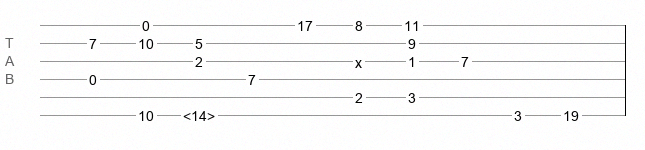0: (89, 72, 97, 82), (142, 18, 150, 28)
1: (408, 54, 416, 64)
10: (138, 108, 154, 118), (138, 36, 154, 46)
11: (404, 18, 420, 28)
17: (297, 18, 313, 28)
19: (563, 108, 579, 118)
2: (195, 54, 203, 64), (355, 90, 363, 100)
3: (408, 90, 416, 100), (514, 108, 522, 118)
5: (195, 36, 203, 46)
7: (89, 36, 97, 46), (248, 72, 256, 82), (461, 54, 469, 64)
8: (355, 18, 363, 28)
9: (408, 36, 416, 46)
harmonic: (183, 108, 215, 118)
x: (355, 55, 362, 63)
